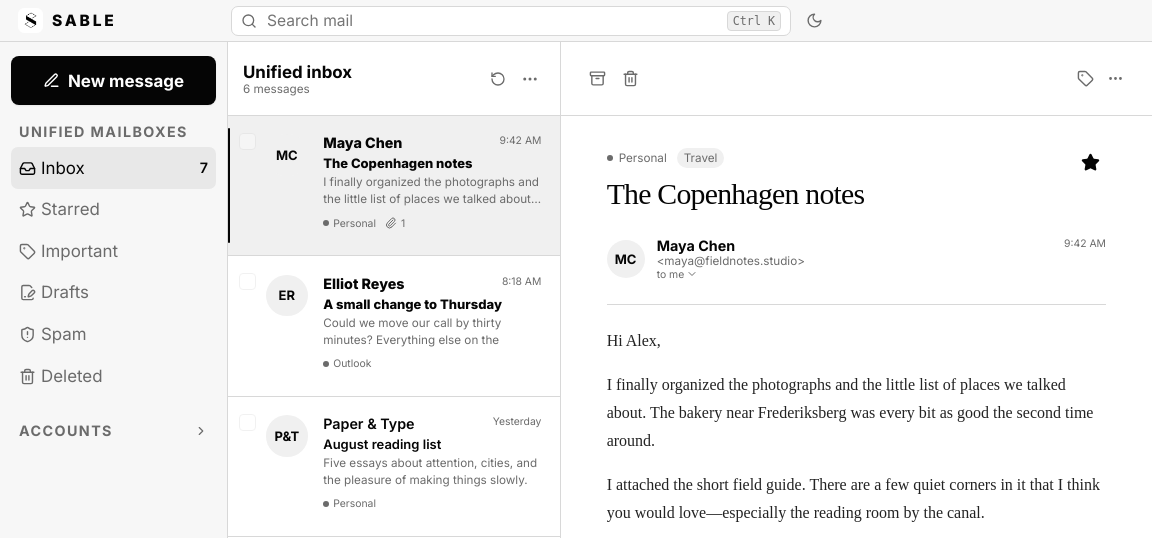
Test: Postbird sample interface › filters the unified inbox by search text
Type "Copenhagen" into the field labelled "Search mail". click: (492, 20)
box: [265,10,719,31]
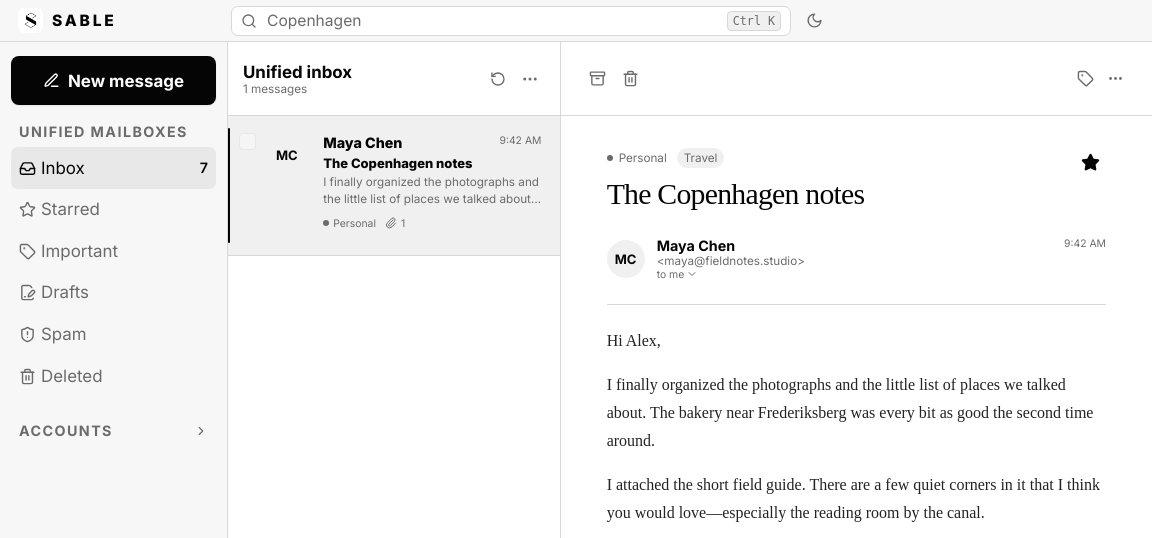
expect the text "The Copenhagen notes" is shown: met, box [323,155,472,171]
expect the number of options is 1: met, box [228,116,560,256]
